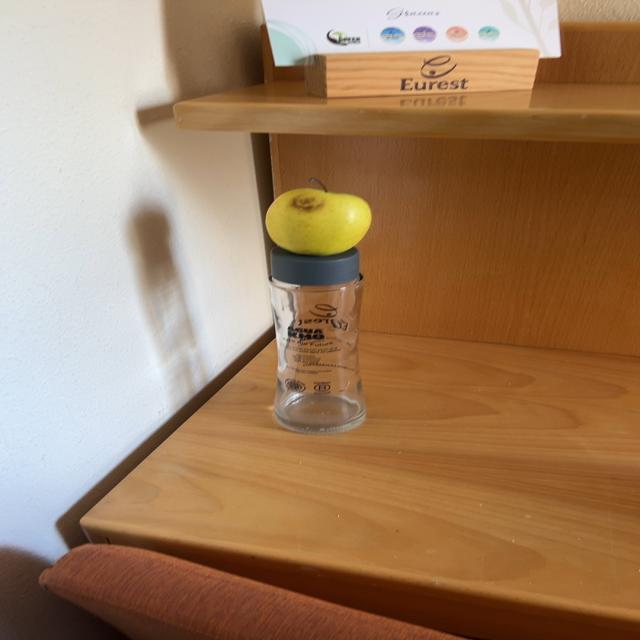apple: (266, 189, 371, 256)
